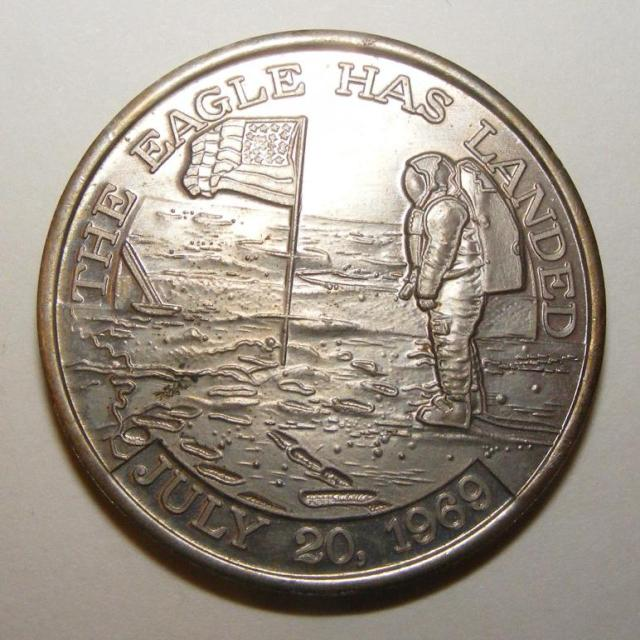Coin: (40, 28, 608, 593)
